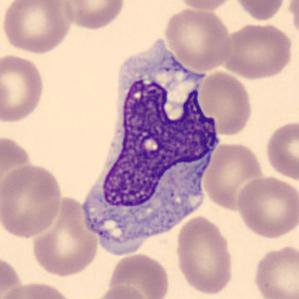Monocyte: (72, 31, 225, 254)
RBC: (29, 194, 100, 280), (173, 214, 236, 297), (0, 162, 65, 240), (162, 5, 233, 72), (200, 140, 267, 210), (220, 20, 295, 81), (234, 174, 298, 240), (0, 0, 76, 55), (197, 68, 254, 137), (0, 52, 47, 124), (106, 251, 172, 299), (0, 135, 33, 215), (251, 243, 298, 299), (263, 118, 299, 183), (59, 0, 127, 30), (1, 280, 76, 299), (231, 0, 286, 22), (0, 254, 25, 298), (90, 284, 152, 299), (172, 0, 238, 12), (287, 0, 298, 40)
